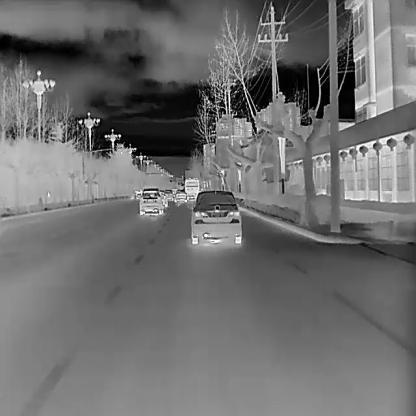car: (191, 190, 241, 244), (139, 188, 163, 215), (185, 177, 198, 200), (174, 189, 187, 202), (158, 190, 168, 206), (164, 189, 174, 201)
